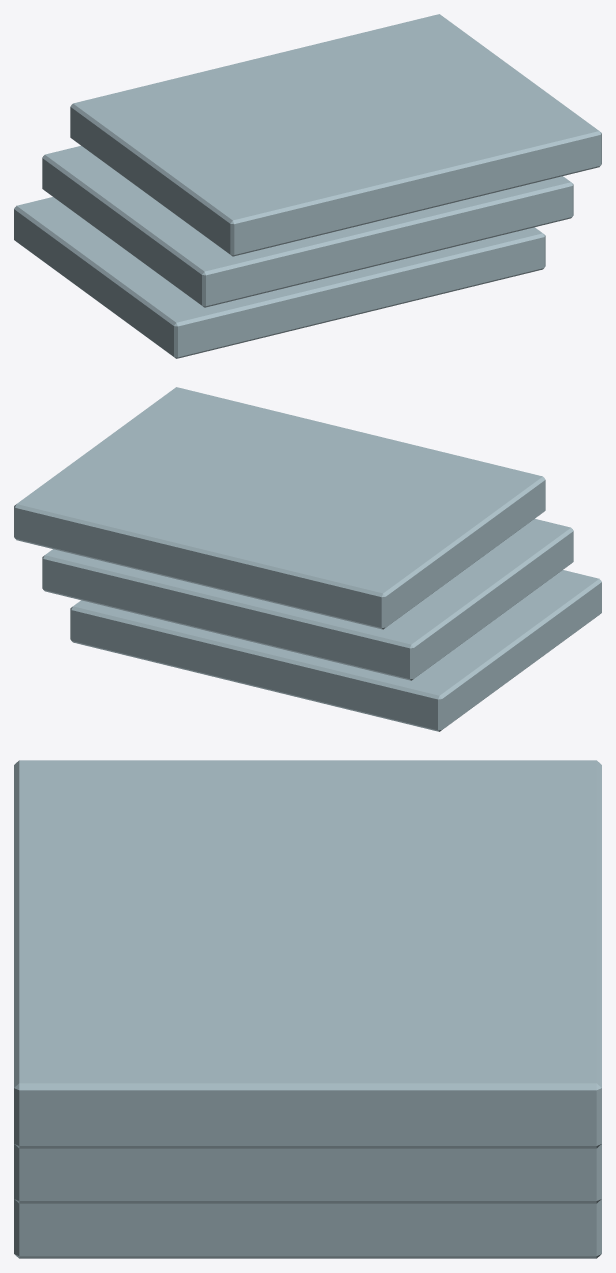
File: iron-sheet.glb
The picture shows the model from 3 angles, top to bottom: view 1: azimuth 30°, elevation 25°; view 2: azimuth 150°, elevation 25°; view 3: azimuth 270°, elevation 25°; orthographic projection. The views are drawn at different scales.
Visible parts, largest first — view 1: iron-sheet / Iron; view 2: iron-sheet / Iron; view 3: iron-sheet / Iron.
Part boxes in pixels (<box>): iron-sheet / Iron: <box>14,14,601,358</box>; iron-sheet / Iron: <box>14,387,601,731</box>; iron-sheet / Iron: <box>14,760,601,1258</box>.
Size of the model in its own units: 0.334 by 0.093 by 0.22.
